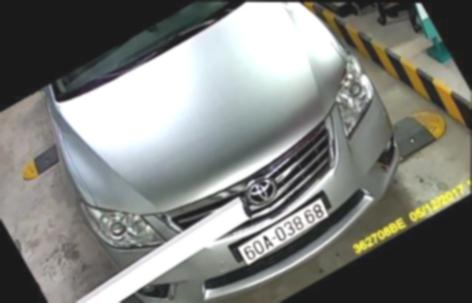License_Plate: (236, 182, 325, 275)
